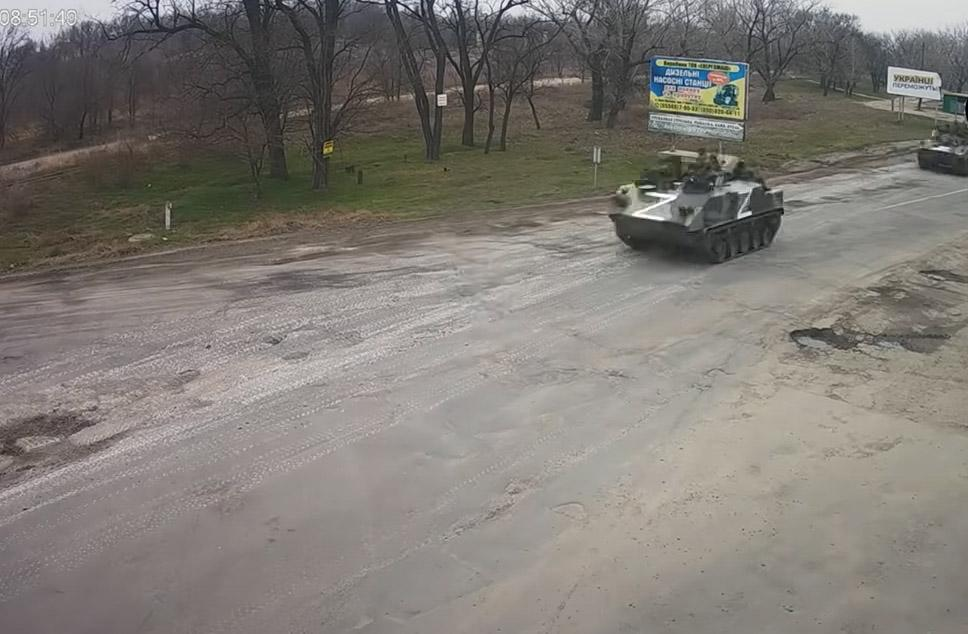tank: (606, 132, 794, 276), (912, 118, 968, 176)
